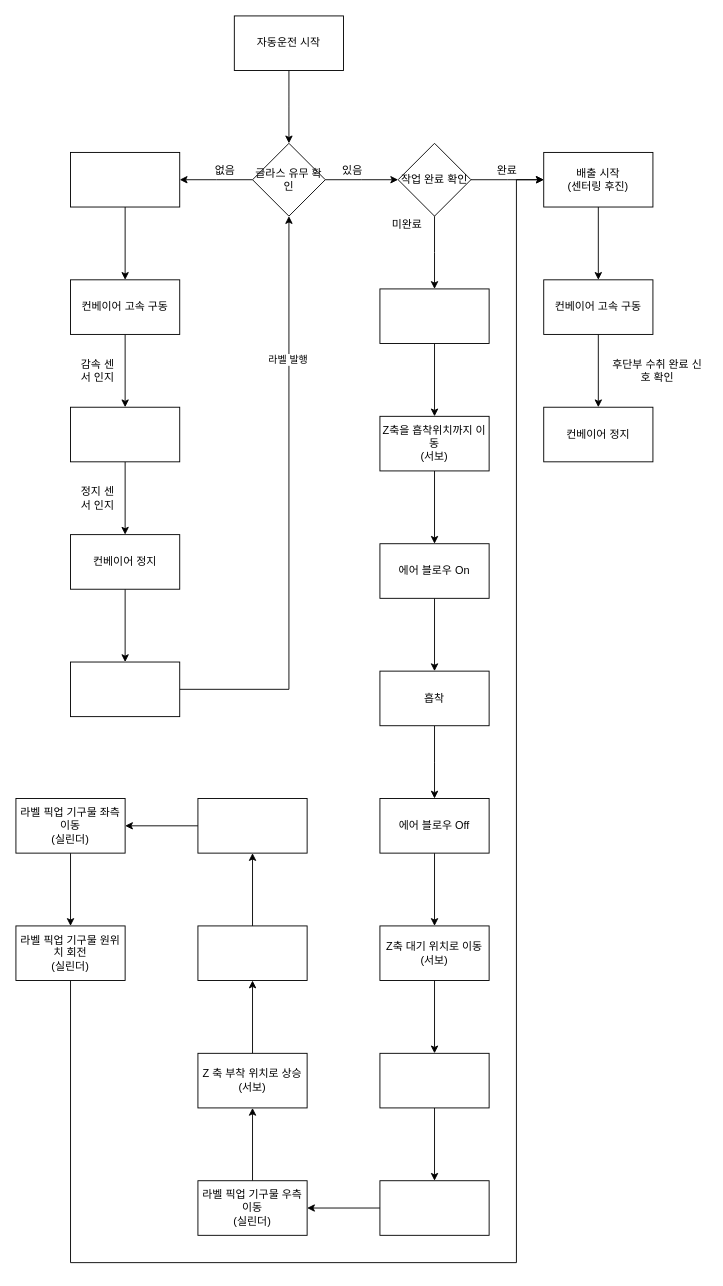
This 723x1286 diagram has some shape labels left out. The shapes that lost their labels are listed below. From the top down, each one's box as (x1, y1, x2, y2) in pixels, then its label:
(70, 152, 180, 207): 수취 동작 시작
(379, 288, 489, 344): 라벨 픽업 기구물 후진 (실린더)
(70, 406, 180, 462): 컨베이어 감속
(70, 661, 180, 717): 센터링 전진
(197, 798, 307, 853): Z 축 대기 위치로 이동 (서보)
(197, 925, 307, 981): 진공 파기
(379, 1052, 489, 1108): 라벨 픽업 기구물 전진 (실린더)
(379, 1180, 489, 1235): 라벨 픽업 기구물 회전 (실린더)
